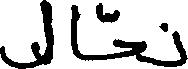X: (0, 0, 54, 68), (113, 5, 146, 66), (172, 26, 187, 68), (70, 0, 78, 68)
